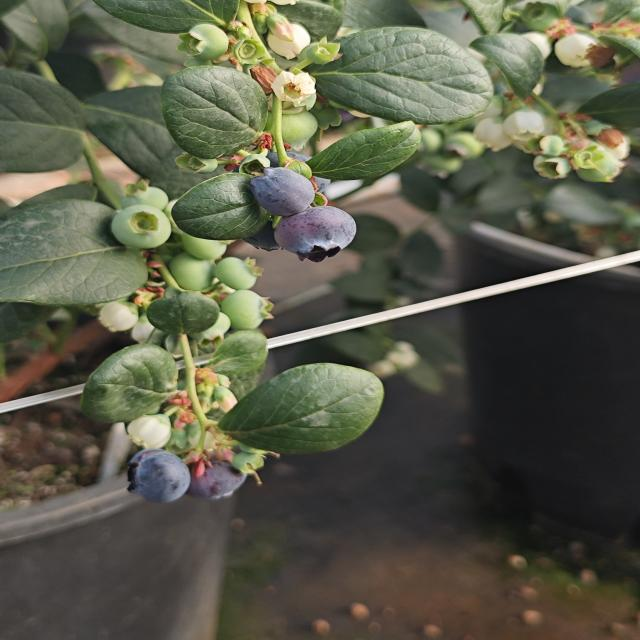ripe: (272, 204, 359, 264), (122, 446, 194, 506), (246, 165, 318, 219), (194, 461, 245, 500)
